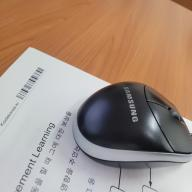mouse: (70, 78, 192, 170)
